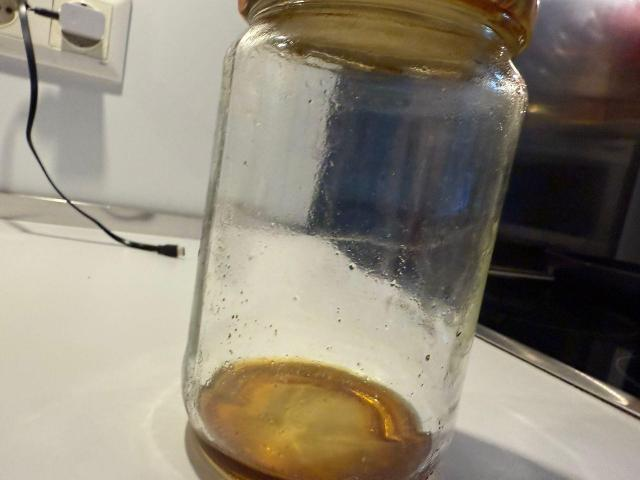Cam: (181, 18, 500, 480), (556, 59, 559, 61)
Metal: (213, 0, 554, 16)
